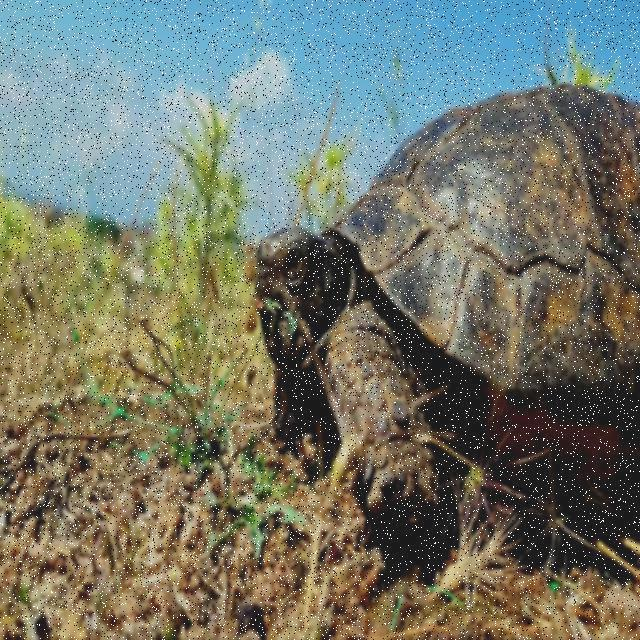tortoise: (210, 89, 640, 523)
